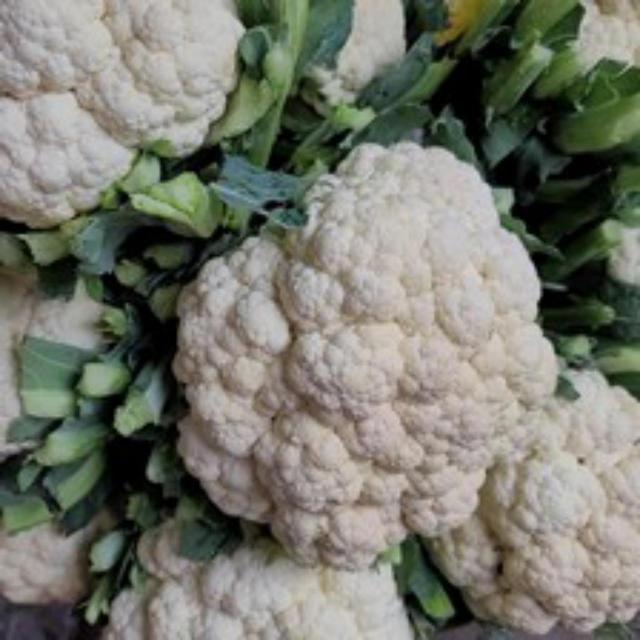cauliflower: (158, 126, 562, 579)
